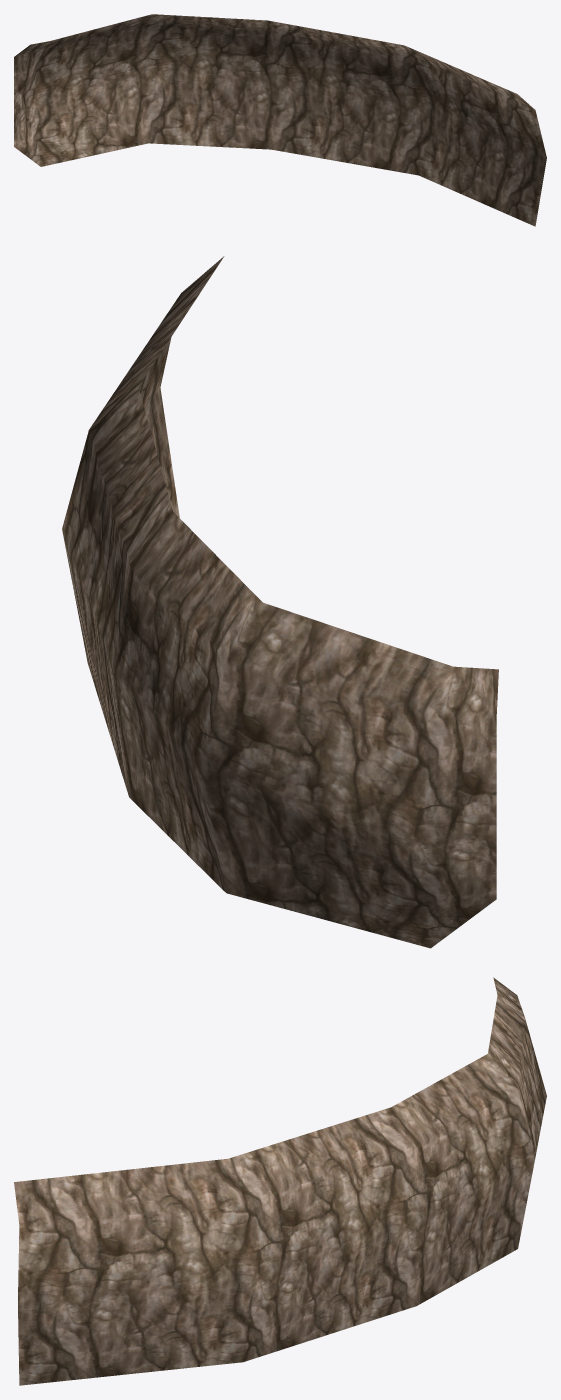
File: OVERHILL_A_01_OBJECT139.fbx
The picture shows the model from 3 angles, top to bottom: view 1: azimuth 30°, elevation 25°; view 2: azimuth 150°, elevation 25°; view 3: azimuth 270°, elevation 25°; orthographic projection. The views are drawn at different scales.
Parts seen in each view (by area): view 1: OVERHILL_A_01_OBJECT139; view 2: OVERHILL_A_01_OBJECT139; view 3: OVERHILL_A_01_OBJECT139.
Boxes of the visible parts, x1,y1,x2,y2 form: OVERHILL_A_01_OBJECT139: [14, 14, 546, 226]; OVERHILL_A_01_OBJECT139: [62, 256, 498, 948]; OVERHILL_A_01_OBJECT139: [14, 977, 546, 1385].
Bounding box in the file's own units: 250438 × 94949 × 240969.
1 material, 1 textured.
